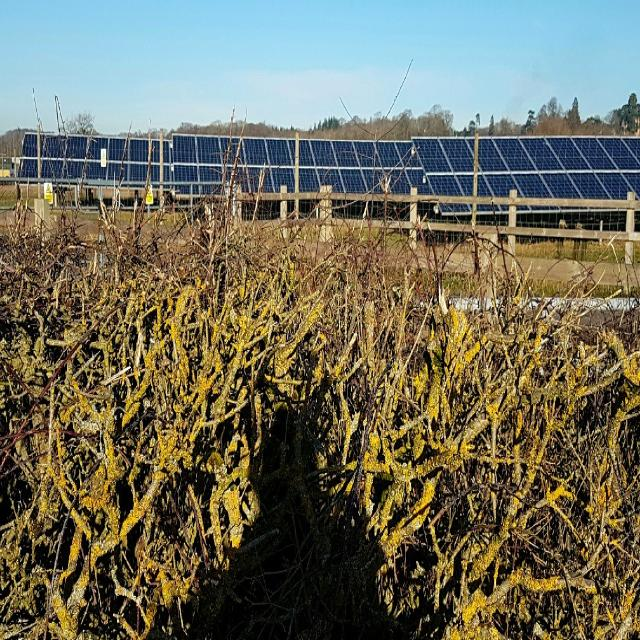clean-solar-panel: (40, 136, 640, 211)
